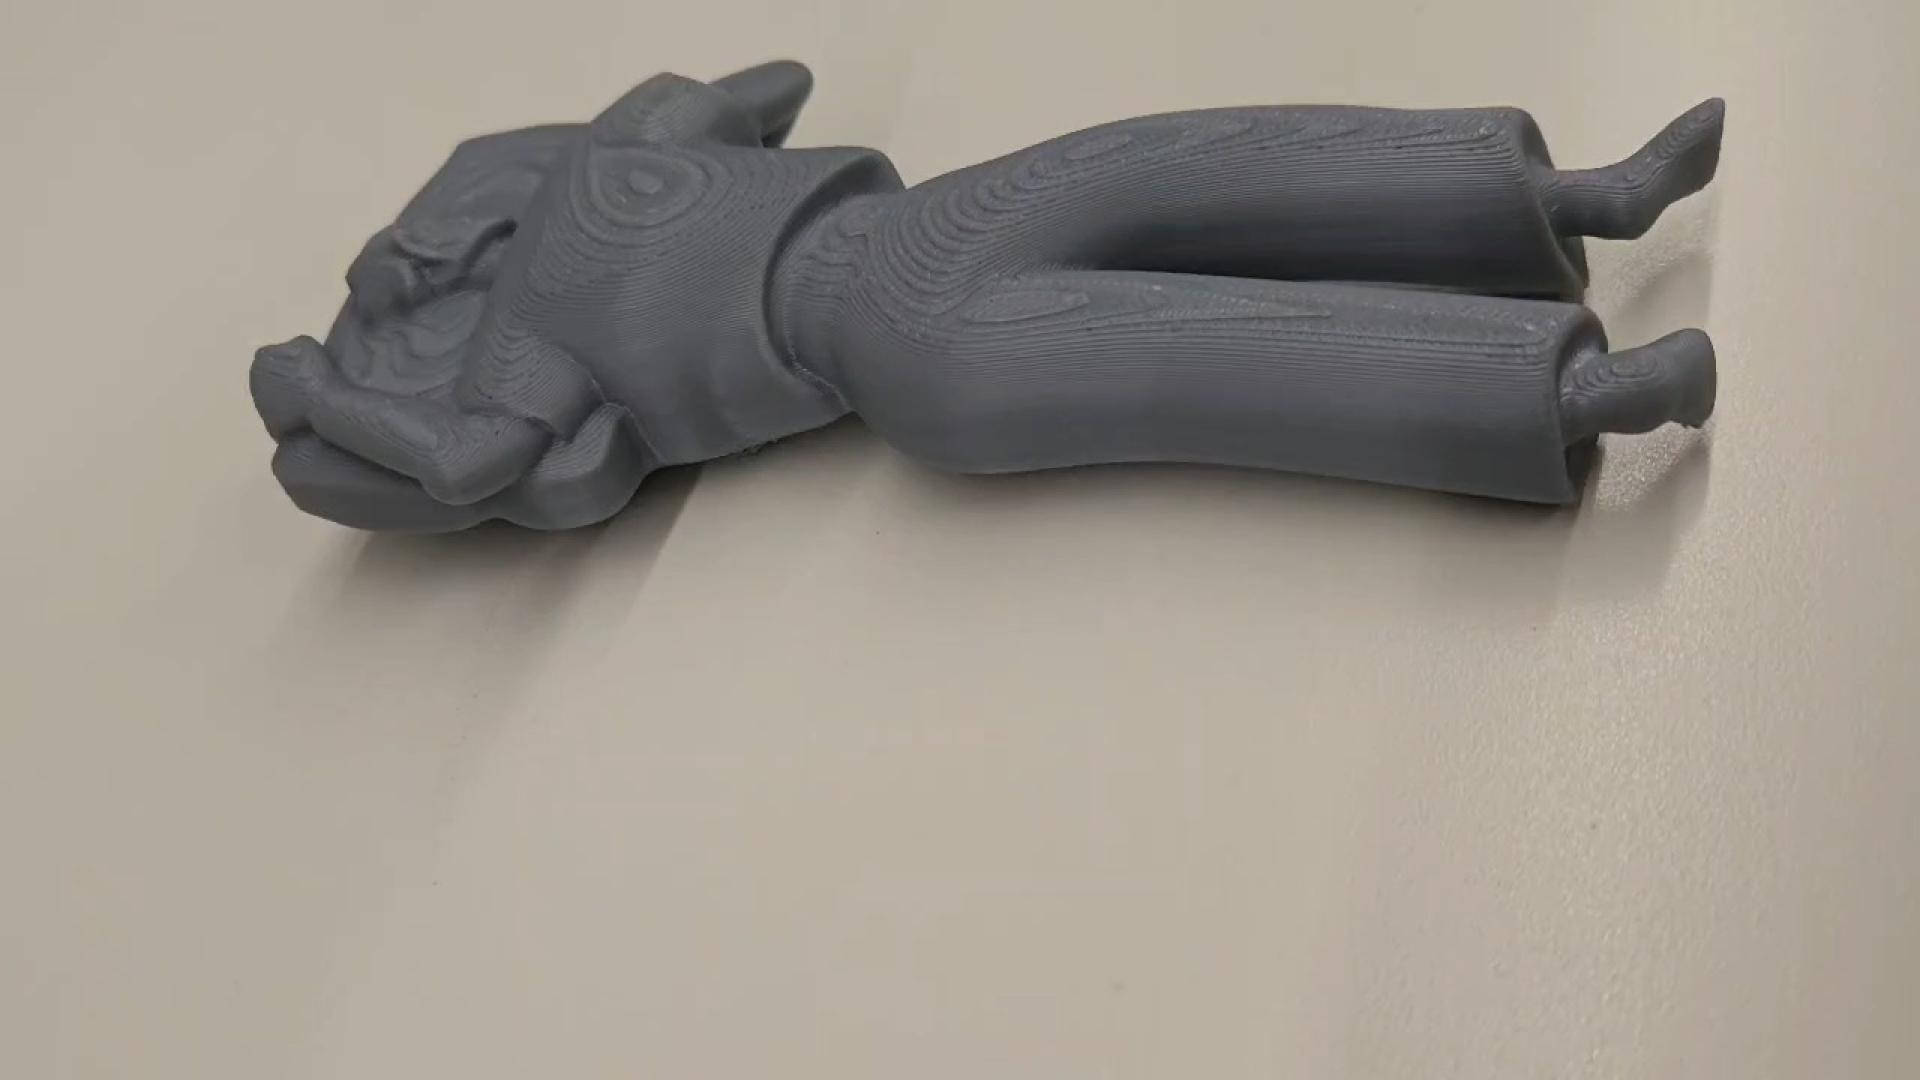Bad-style: (255, 50, 1735, 535)
